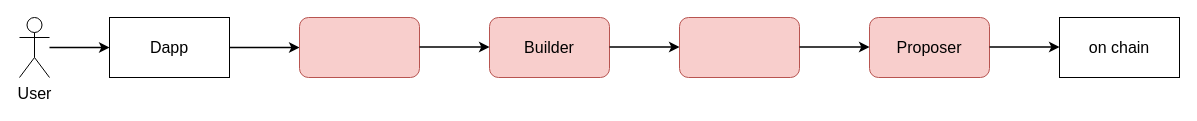
This 1197x121 diagram has some shape labels left out. The shapes that lost their labels are listed below. From the top down, each one's centre as x and y in pixels, then its label:
At point 359,47: "Searcher".
At point 739,47: "Relay".
